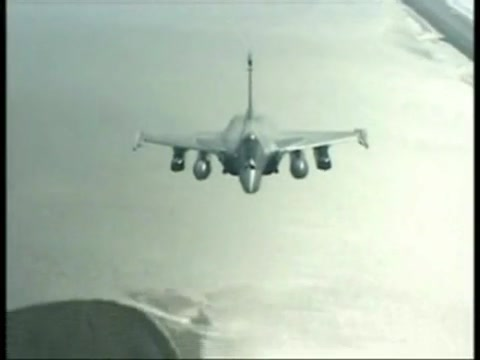aeroplane: (134, 56, 371, 195)
